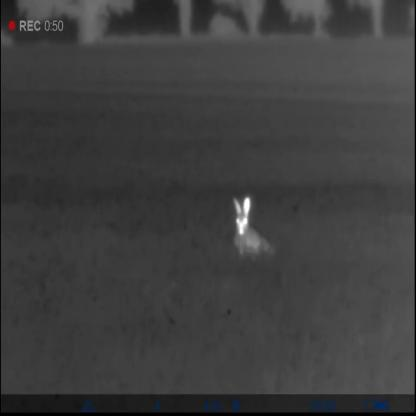rehkitze: (230, 194, 276, 259)
